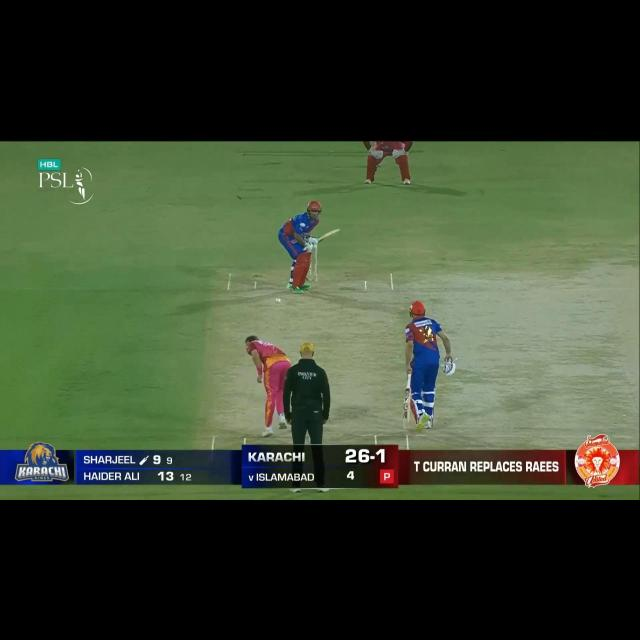bat: (313, 226, 343, 244), (401, 390, 411, 430)
toe: (398, 421, 412, 432), (334, 227, 342, 236)
